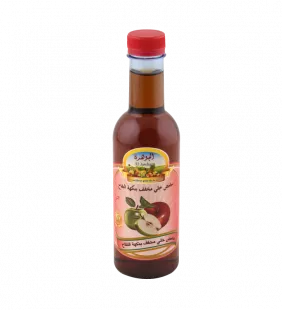EL JAWHARA: (107, 20, 188, 283)
